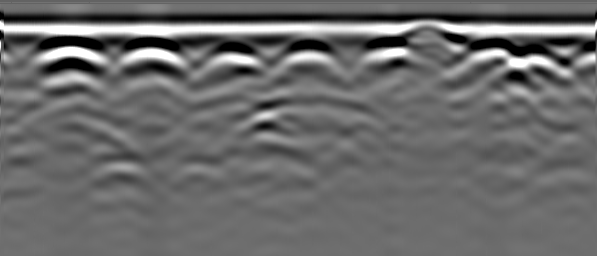pipe: (400, 18, 456, 42)
steel: (34, 37, 109, 77), (118, 39, 187, 79), (200, 40, 263, 79), (278, 39, 342, 77), (359, 36, 414, 76), (519, 40, 569, 75), (464, 35, 512, 68)
